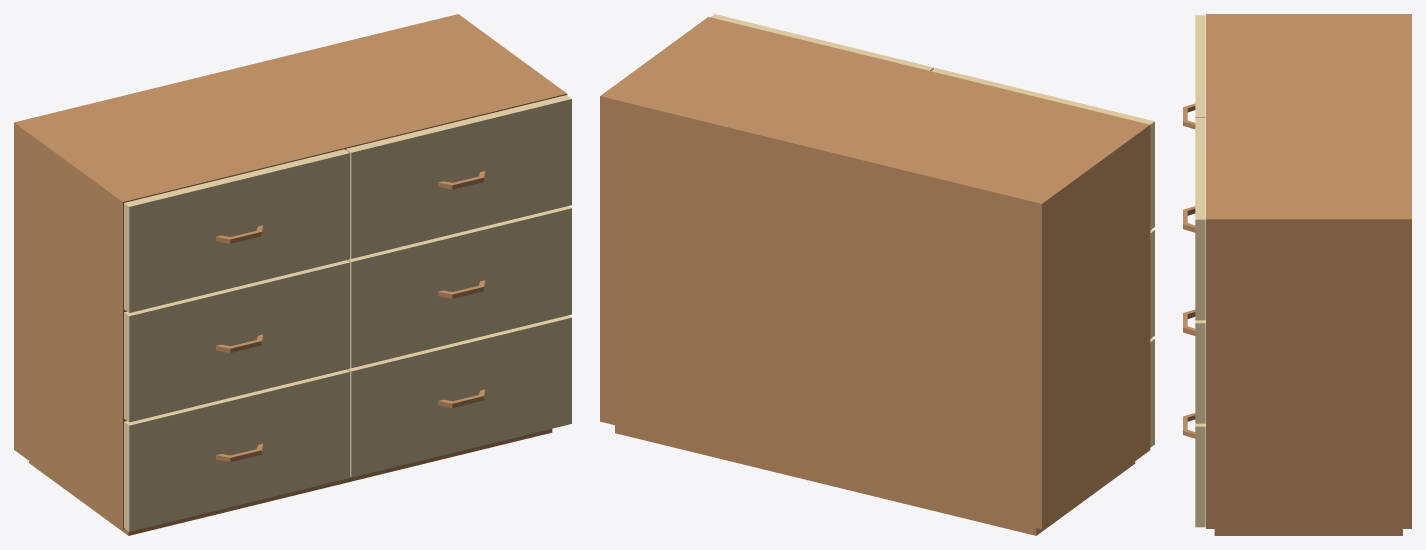
The model's file is shelf2.fbx.
3 views of the same model, side by side, from view 1: azimuth 30°, elevation 25°; view 2: azimuth 150°, elevation 25°; view 3: azimuth 270°, elevation 25° (orthographic). The views are drawn at different scales.
Visible parts, largest first — view 1: shelf2; view 2: shelf2; view 3: shelf2.
Part boxes in pixels (<box>): shelf2: <box>14,14,571,535</box>; shelf2: <box>600,14,1154,535</box>; shelf2: <box>1183,14,1411,535</box>.
Bounding box in the file's own units: 89.87 × 65.66 × 42.35.
Materials: 1 (1 with a texture image).
